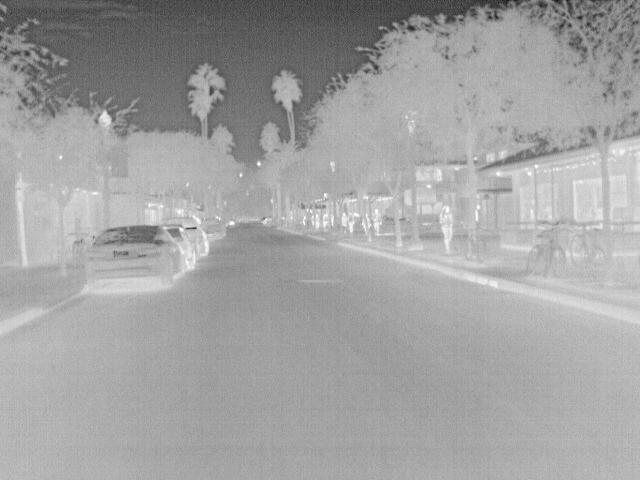car: (81, 223, 187, 296), (162, 216, 209, 256), (160, 224, 194, 271), (198, 216, 228, 238)
person: (439, 204, 455, 252), (370, 209, 384, 234), (360, 213, 372, 238), (346, 210, 357, 234), (340, 211, 350, 228), (314, 210, 322, 231)
